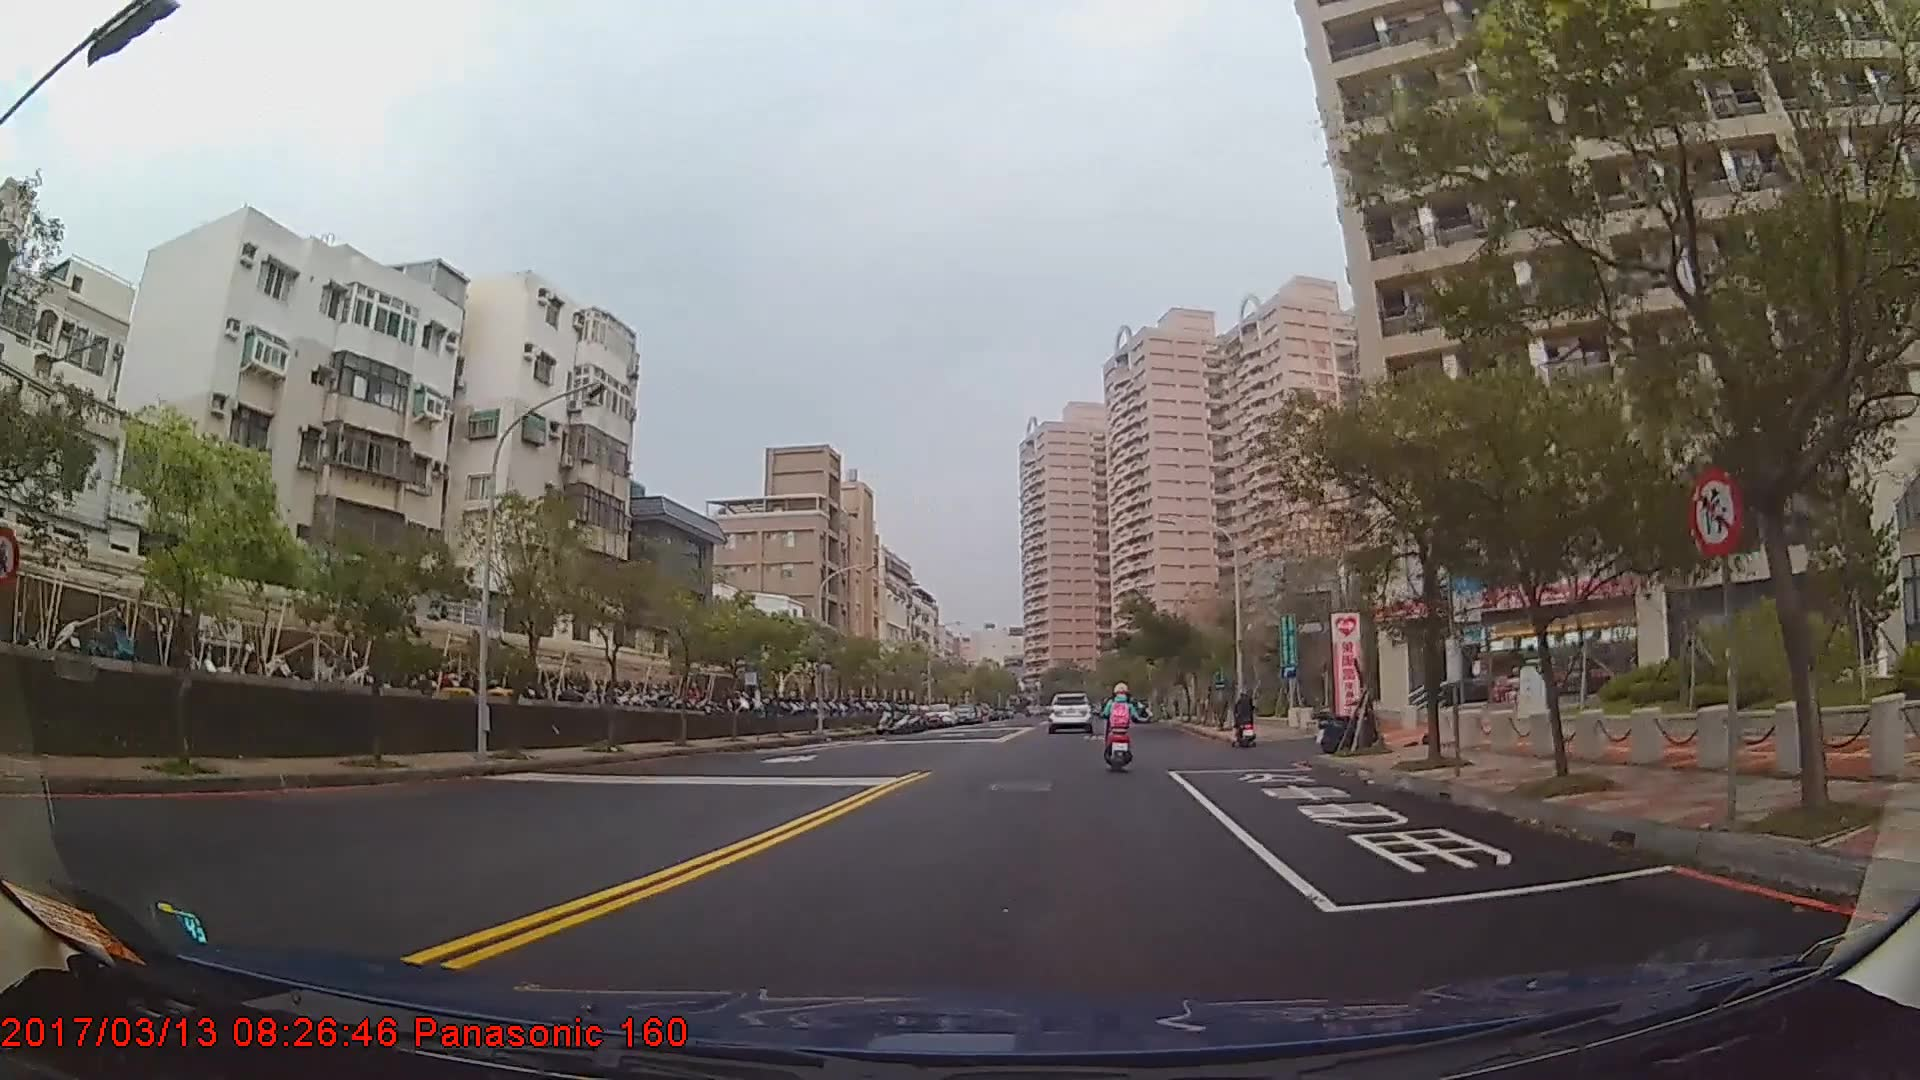rider: (1102, 678, 1145, 762), (1233, 691, 1258, 747)
vehicle: (1046, 690, 1094, 733)
